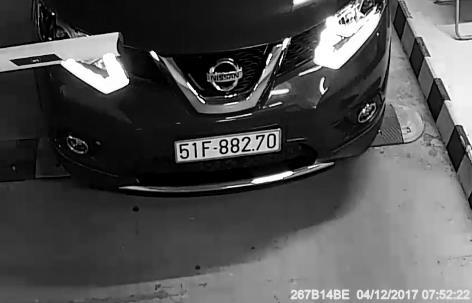License-plate: (167, 128, 286, 167)
